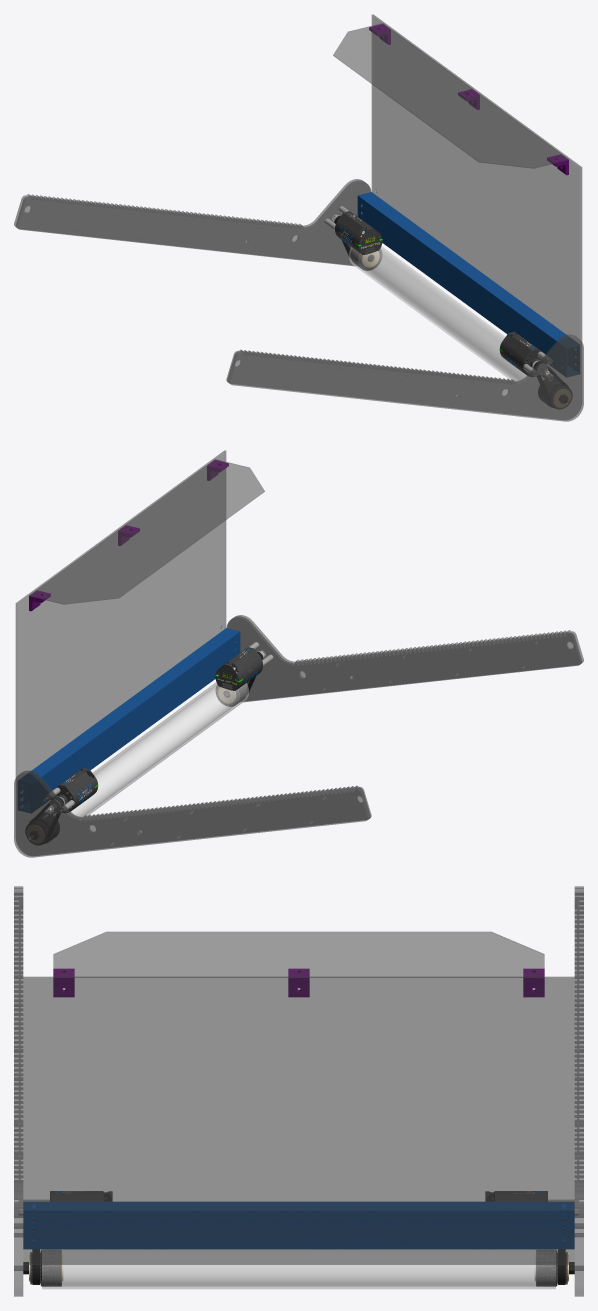
3 renders of one model, top to bottom at view 1: azimuth 30°, elevation 25°; view 2: azimuth 150°, elevation 25°; view 3: azimuth 270°, elevation 25°, orthographic. The views are drawn at different scales.
Visible parts, largest first — view 1: Wall of polycarb, Intake - Middle Sandwiched Plate (×2), mason told me to name this (×2), Intake - Outer plate, No More Fuel, Beater bar, PolycarbTube, Intake - Outer plate-Mirrored, WCP-0941 (×2); view 2: Wall of polycarb, Intake - Middle Sandwiched Plate (×2), mason told me to name this (×2), Intake - Outer plate-Mirrored, No More Fuel, Beater bar, PolycarbTube, Intake - Outer plate, WCP-0941 (×2); view 3: Wall of polycarb, Beater bar, No More Fuel, PolycarbTube, Intake - Middle Sandwiched Plate (×2), mason told me to name this (×2), Intake - Outer plate, Intake - Outer plate-Mirrored, 3d Printed support (×3), HTD5 24 Tooth Custom Pulley (×2), WCP-0941 (×2).
Boxes of the visible parts, box(x1,y1,x2,y2) form: Wall of polycarb: box(371, 14, 582, 342); Intake - Middle Sandwiched Plate (×2): box(15, 180, 581, 419); mason told me to name this (×2): box(16, 181, 575, 407); Intake - Outer plate: box(228, 335, 583, 421); No More Fuel: box(333, 23, 568, 168); Beater bar: box(357, 192, 579, 376); PolycarbTube: box(349, 246, 549, 381); Intake - Outer plate-Mirrored: box(14, 179, 362, 253); WCP-0941 (×2): box(333, 211, 548, 376); Wall of polycarb: box(15, 450, 226, 778); Intake - Middle Sandwiched Plate (×2): box(16, 616, 582, 855); mason told me to name this (×2): box(22, 617, 581, 843); Intake - Outer plate-Mirrored: box(14, 771, 369, 857); No More Fuel: box(29, 459, 264, 604); Beater bar: box(18, 628, 240, 812); PolycarbTube: box(48, 682, 248, 817); Intake - Outer plate: box(234, 615, 583, 689); WCP-0941 (×2): box(49, 647, 264, 812); Wall of polycarb: box(23, 976, 574, 1264); Beater bar: box(23, 1202, 574, 1249); No More Fuel: box(53, 931, 544, 977); PolycarbTube: box(42, 1249, 555, 1289); Intake - Middle Sandwiched Plate (×2): box(18, 886, 579, 1296); mason told me to name this (×2): box(21, 886, 576, 1296); Intake - Outer plate: box(14, 886, 18, 1296); Intake - Outer plate-Mirrored: box(579, 886, 583, 1296); 3d Printed support (×3): box(53, 968, 544, 997); HTD5 24 Tooth Custom Pulley (×2): box(30, 1250, 567, 1286); WCP-0941 (×2): box(19, 1191, 578, 1214).
Size of the model in its own units: 0.645 by 0.4292 by 0.678.
